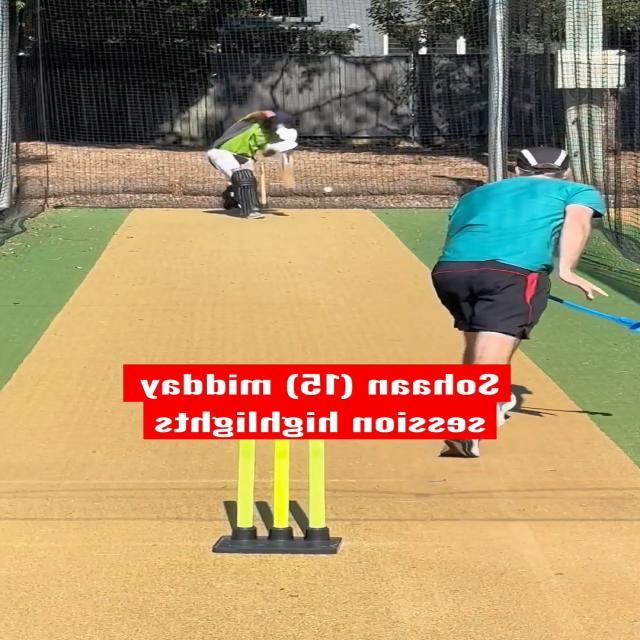ball: (322, 186, 335, 193)
stump: (225, 438, 330, 554)
